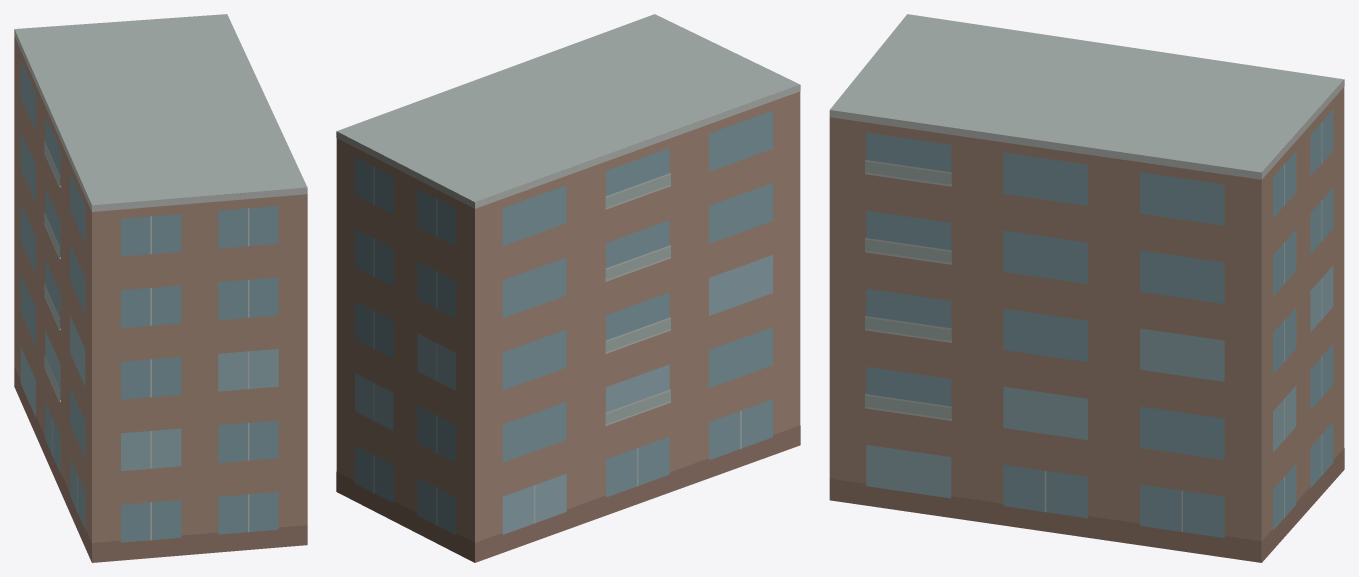
Rendered from survey-upis-32890873.glb.
3 views of the same model, side by side, from view 1: azimuth 30°, elevation 25°; view 2: azimuth 150°, elevation 25°; view 3: azimuth 270°, elevation 25° (orthographic). The views are drawn at different scales.
Visible parts, largest first — view 1: survey-upis-32890873.tmp; view 2: survey-upis-32890873.tmp; view 3: survey-upis-32890873.tmp.
Part boxes in pixels (x1,y1,x2,y2): survey-upis-32890873.tmp: [14, 14, 307, 562]; survey-upis-32890873.tmp: [336, 14, 800, 562]; survey-upis-32890873.tmp: [829, 14, 1344, 562].
Bounding box in the file's own units: 11.42 × 13.1 × 15.67.
